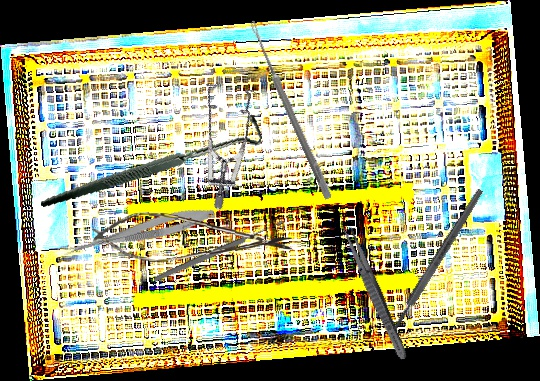Dressing Forceps: (337, 222, 412, 362)
Hook Surgical: (40, 81, 266, 242)
Micro Scissor: (87, 210, 297, 267), (60, 200, 218, 266)
Scalpel Handle: (390, 187, 486, 332)
Speculum: (148, 64, 293, 212)
Surgical Spoon: (246, 19, 334, 200), (152, 218, 286, 284)
